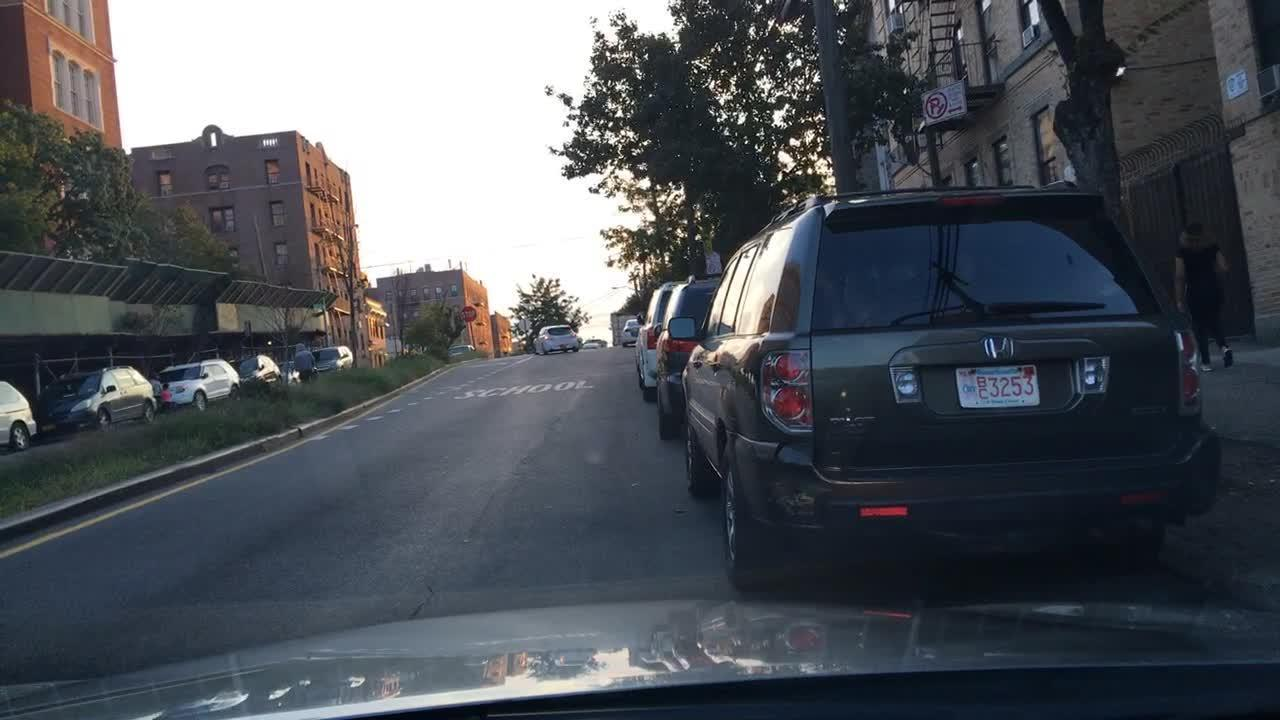Honda: (967, 328, 1037, 379)
